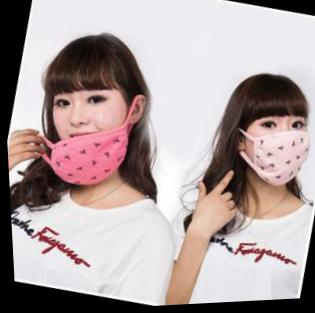OK: (235, 105, 315, 193)
WRONG: (33, 75, 131, 173)
